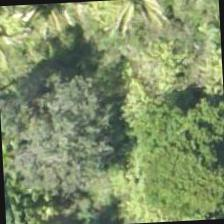Kelapa_Sawit: (0, 2, 82, 60)
